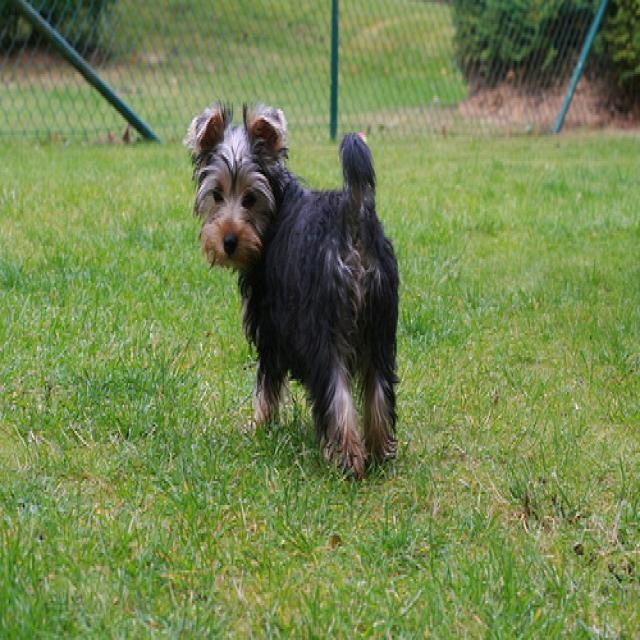dog-yorkshire_terrier: (183, 87, 412, 494)
